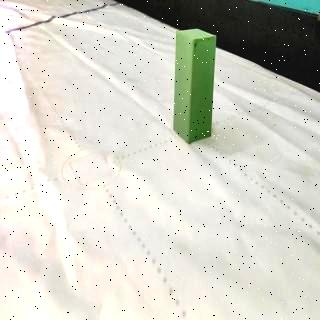greenbox: (172, 29, 218, 144)
